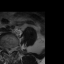CCS_normal: (8, 46, 10, 56)
LFS_normal: (12, 45, 15, 53)
LLS_normal: (10, 46, 12, 54)
RFS_normal: (3, 44, 6, 52)
RLS_normal: (6, 45, 8, 54)
